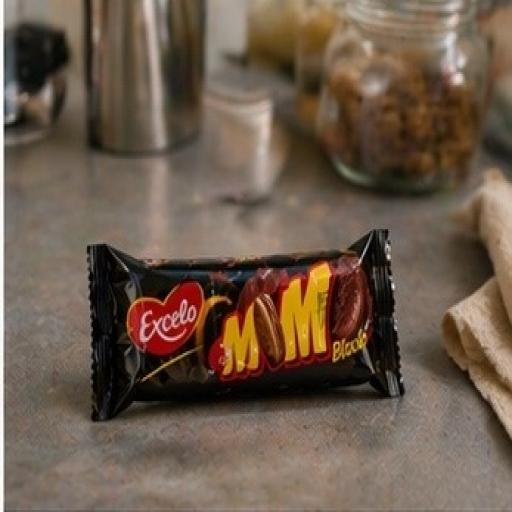MOMO: (53, 175, 426, 461)
